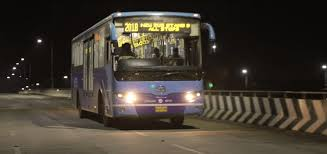Chigari: (50, 17, 220, 130)
